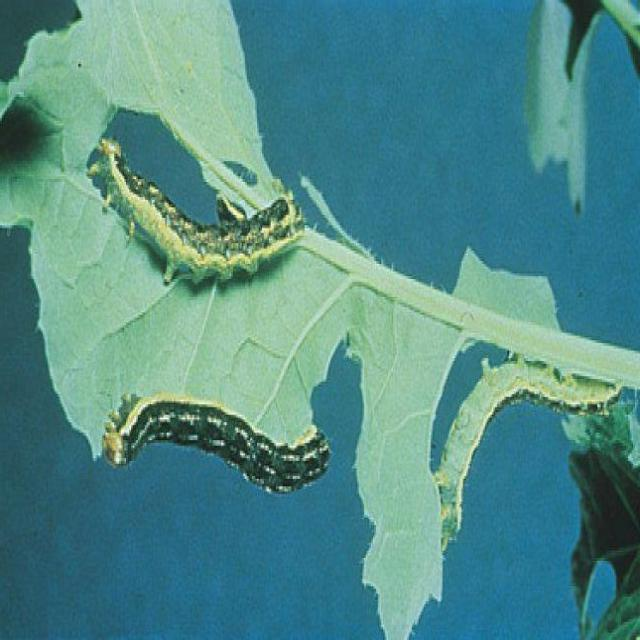army worm: (427, 358, 623, 555), (86, 131, 312, 298), (103, 402, 334, 498)
